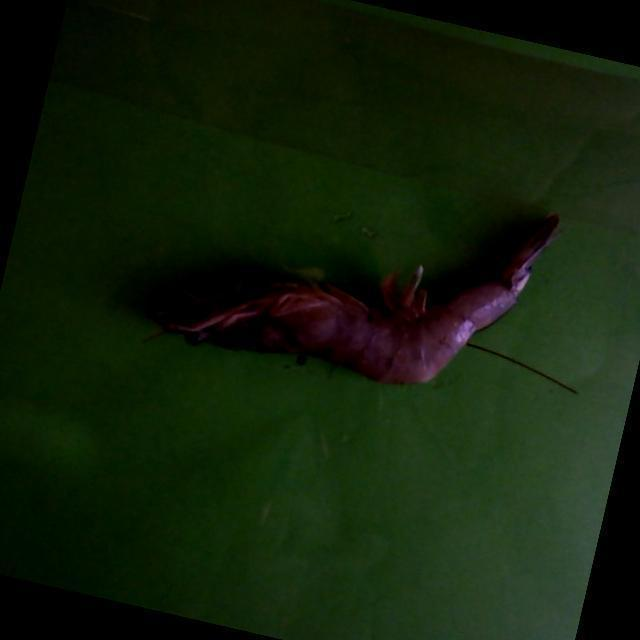shrimp: (153, 214, 558, 382)
